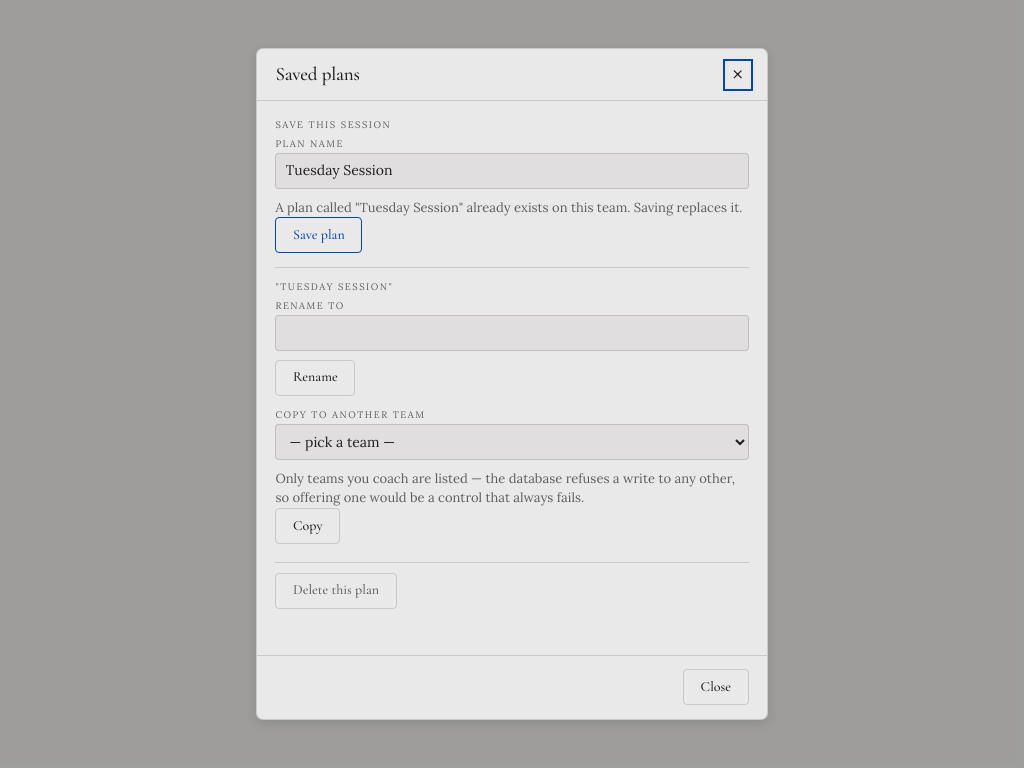
Scenario: copy to team › will not copy without a destination
Click the button "Copy" at (308, 526), box [275,508,340,544]
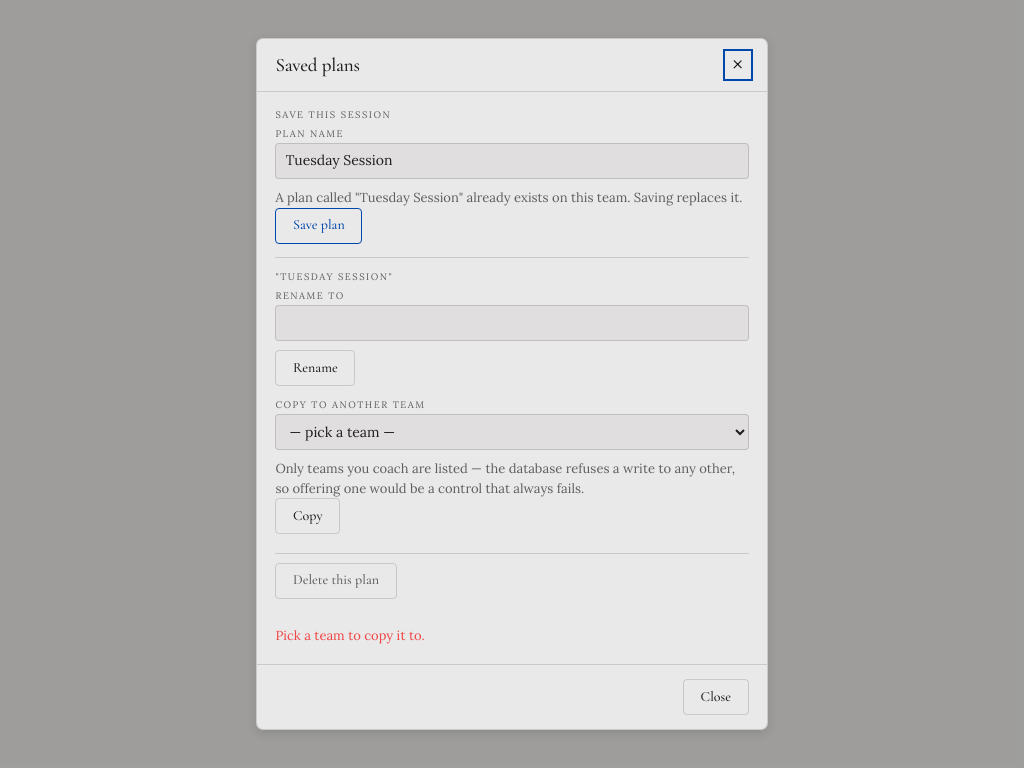
Result: the message "Pick a team to copy it to." is shown at [275,627,425,644]
